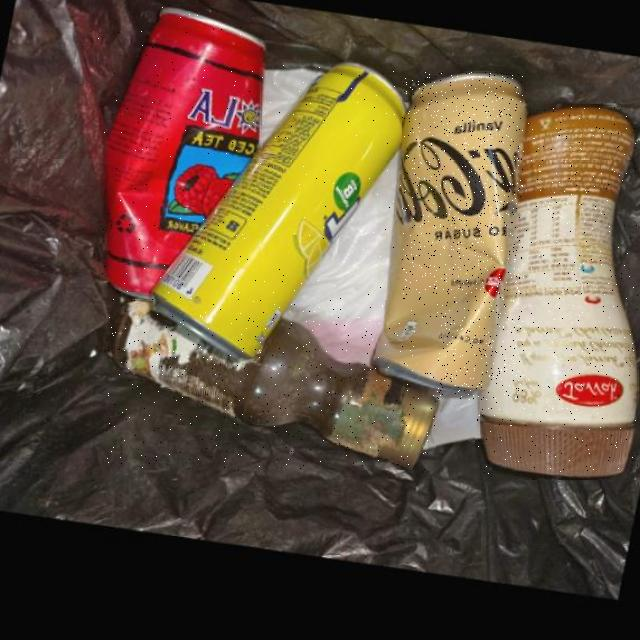glass: (107, 300, 436, 470)
metal: (150, 61, 402, 361), (369, 72, 523, 399), (99, 6, 261, 300)
plastic: (476, 106, 638, 480)
